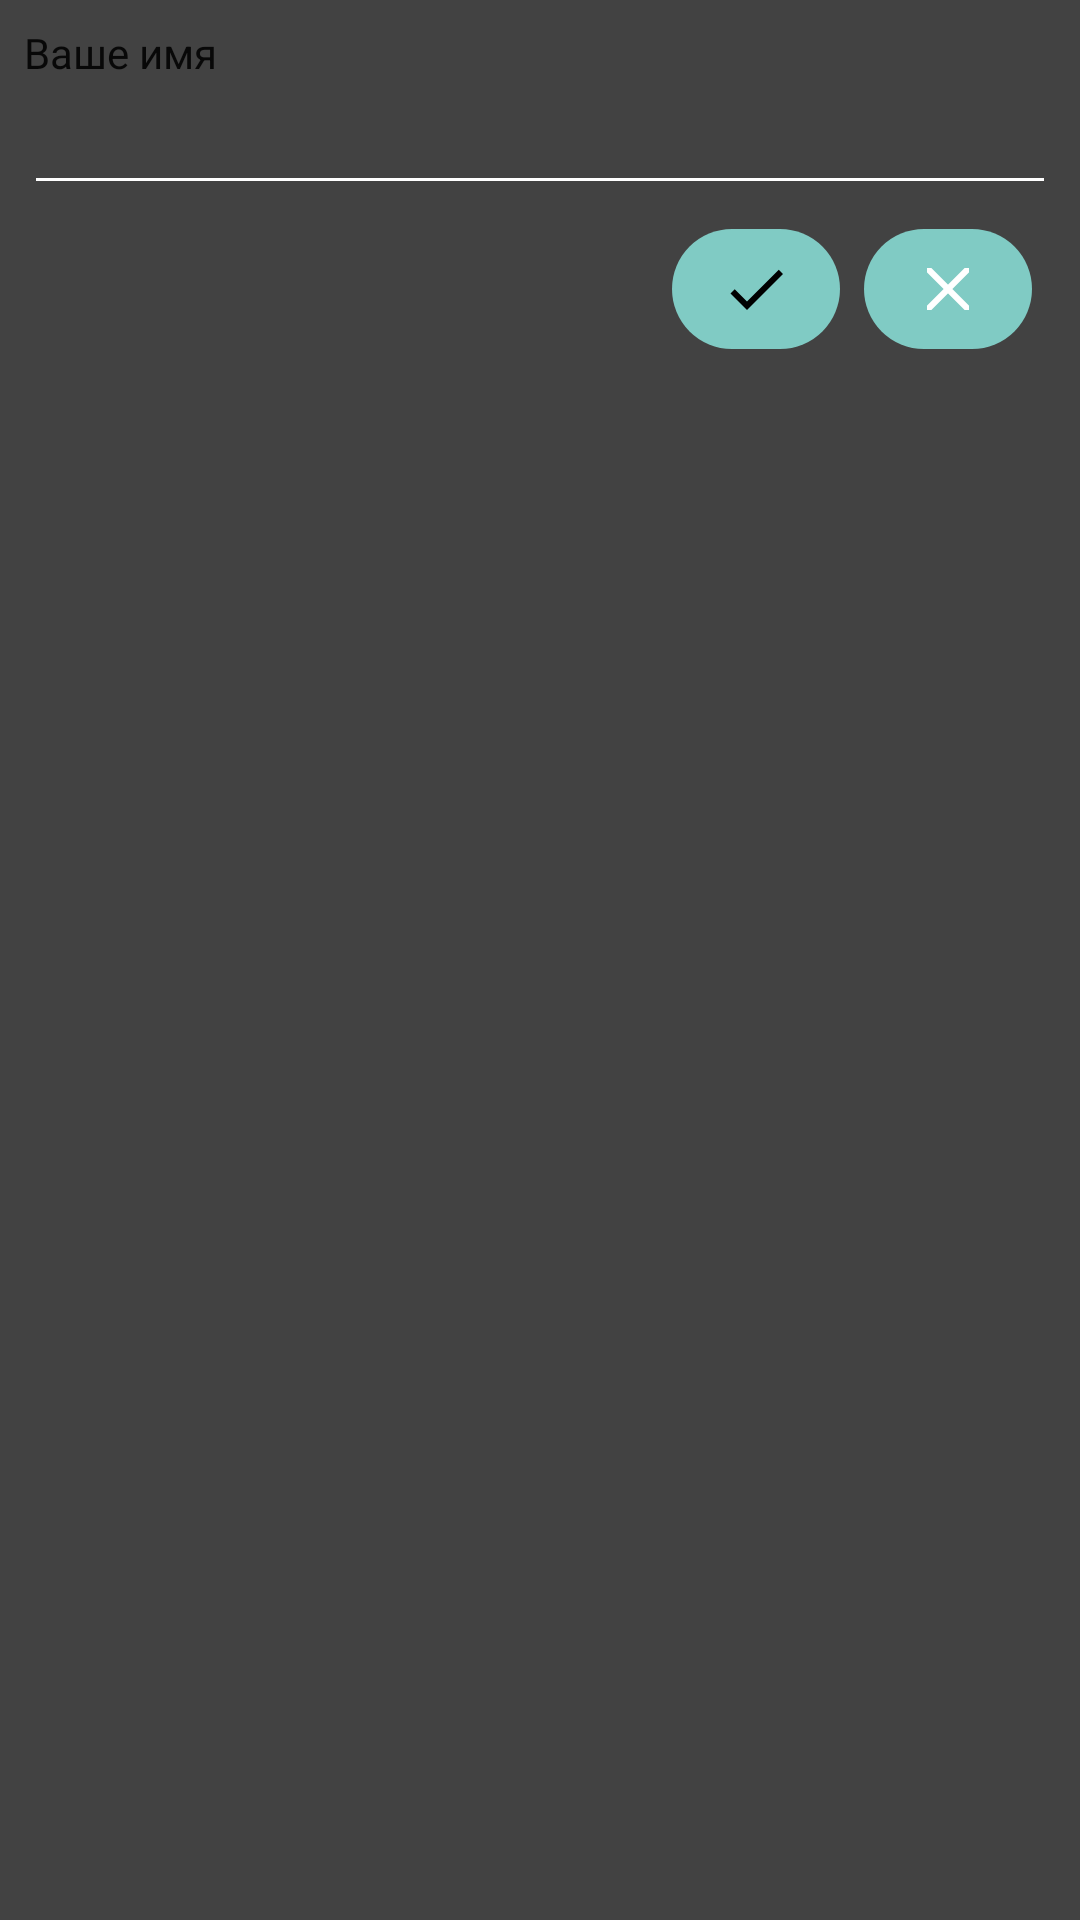

Icon click points for this 1080px x 1920px phone screenshot, format [x,y]:
check: [756,289]
window close: [948,289]
